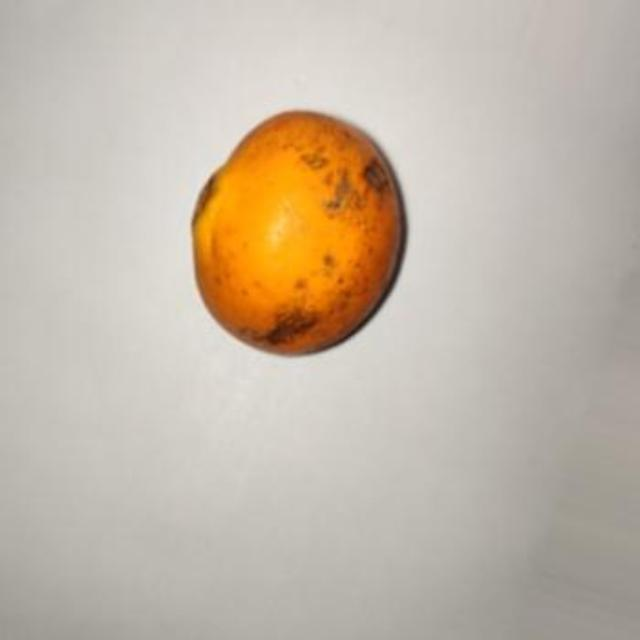good: (192, 112, 408, 358)
